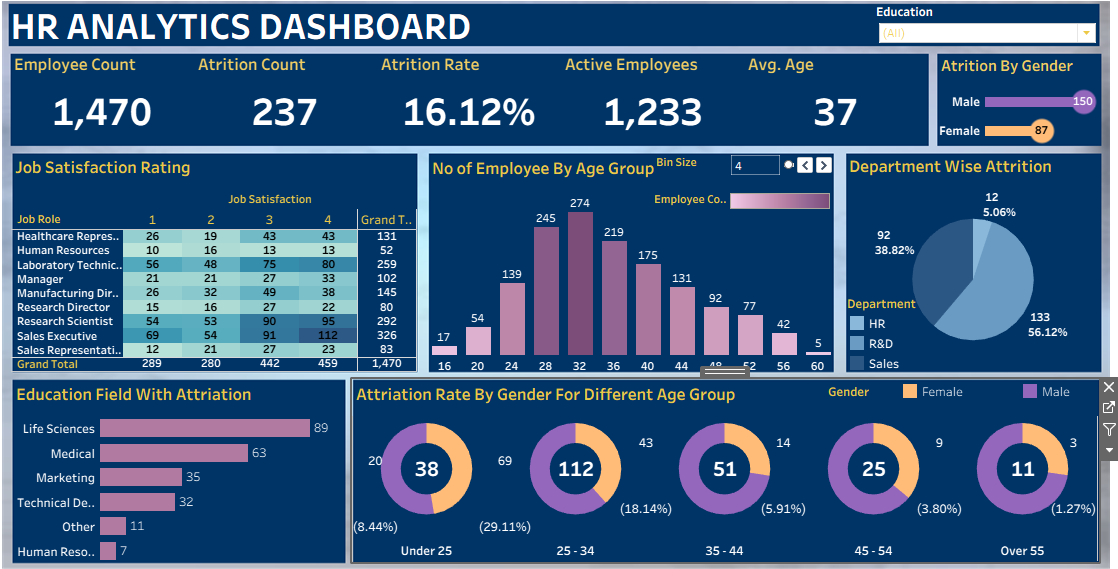

This screenshot's page, from the dashboard's own definition file:
{"tool":"tableau","page":{"name":"HR ANALYTICS","canvas":[1150,592],"ordinal":0},"visuals":[{"type":"image","param":"C:/Users/DELL/Pictures/dashboard bg.png","box":[8,8,1134,576]},{"type":"text","box":[27,14,1091,43]},{"type":"filter","title":"Job Satisfaction Rating","param":"[federated.06juyef0yqxx131fpj2my19abld3].[none:Education:nk]","box":[895,14,223,42]},{"type":"worksheet","title":"Atrition By Gender","mark":"Automatic","rows":["Gender"],"cols":["Calculation_106960501975699458","Calculation_106960501975699458"],"box":[956,62,164,94]},{"type":"worksheet","title":"KPI","mark":"Automatic","box":[29,65,918,92]},{"type":"worksheet","title":"Department Wise Attrition","mark":"Pie","box":[864,162,256,220]},{"type":"worksheet","title":"Job Satisfaction Rating","mark":"Square","rows":["Job Role"],"cols":["Job Satisfaction"],"box":[30,163,406,220]},{"type":"parameter","param":"[Parameters].[Parameter 1]","box":[675,163,179,38]},{"type":"worksheet","title":"No of Employee By Age Group","mark":"Automatic","rows":["Employee Count"],"cols":["Age (bin)"],"box":[447,164,407,222]},{"type":"legend","title":"No of Employee By Age Group","param":"[federated.06juyef0yqxx131fpj2my19abld3].[sum:Employee Count:qk]","box":[674,186,180,22]},{"type":"legend","title":"Department Wise Attrition","param":"[federated.06juyef0yqxx131fpj2my19abld3].[none:Department:nk]","box":[866,306,92,78]},{"type":"worksheet","title":"Education Field With Attriation","mark":"Automatic","rows":["Education Field"],"cols":["Calculation_106960501975699458"],"box":[31,390,333,184]},{"type":"worksheet","title":"Attriation Rate By Gender For Different Age Group","mark":"Pie","rows":["Calculation_90916432111681538","Calculation_90916432111681538"],"cols":["CF_age band"],"box":[371,390,747,183]}]}

Visuals, with their boxes in screenshot pixels (x1, y1, x2, y2), scaled from the page's 1150x592 canvas onto the 1118x569 screenshot:
image: rect(8, 8, 1110, 561)
text: rect(26, 13, 1087, 55)
"Job Satisfaction Rating" filter: rect(870, 13, 1087, 54)
"Atrition By Gender" worksheet: rect(929, 60, 1089, 150)
"KPI" worksheet: rect(28, 62, 921, 151)
"Department Wise Attrition" worksheet (Pie marks): rect(840, 156, 1089, 367)
"Job Satisfaction Rating" worksheet (Square marks): rect(29, 157, 424, 368)
parameter: rect(656, 157, 830, 193)
"No of Employee By Age Group" worksheet: rect(435, 158, 830, 371)
"No of Employee By Age Group" legend: rect(655, 179, 830, 200)
"Department Wise Attrition" legend: rect(842, 294, 931, 369)
"Education Field With Attriation" worksheet: rect(30, 375, 354, 552)
"Attriation Rate By Gender For Different Age Group" worksheet (Pie marks): rect(361, 375, 1087, 551)
